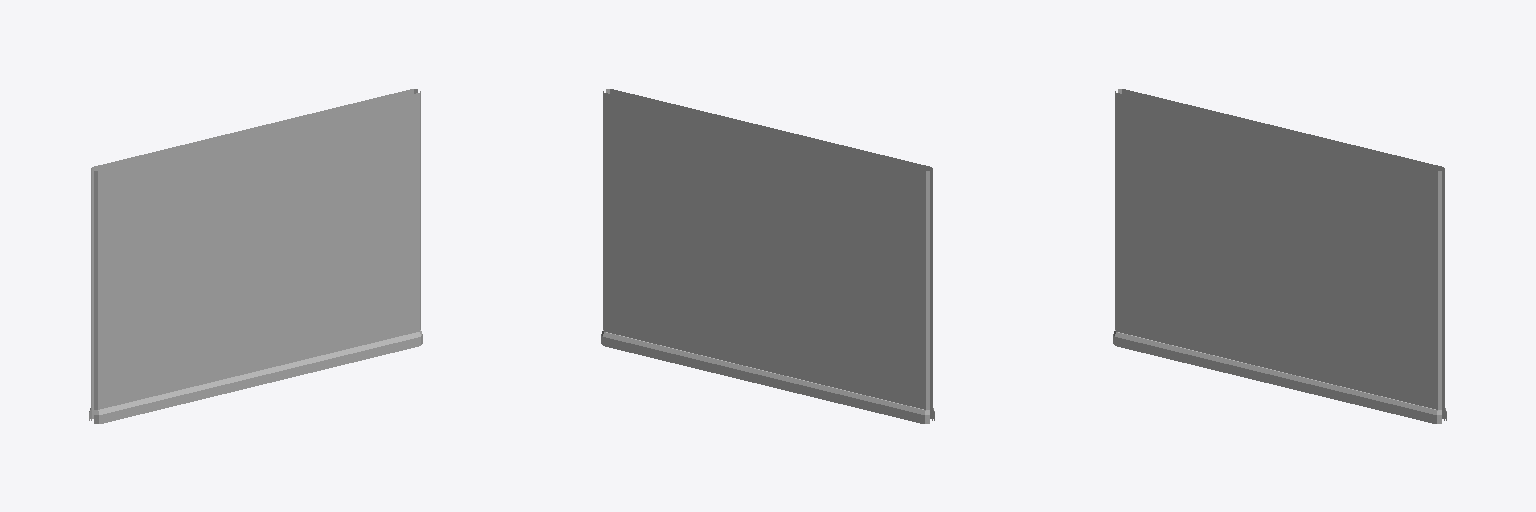
The model's file is wall_1.obj.
The picture shows the model from 3 angles: view 1: azimuth 30°, elevation 25°; view 2: azimuth 150°, elevation 25°; view 3: azimuth 330°, elevation 25°; orthographic projection.
Parts seen in each view (by area): view 1: wall_1; view 2: wall_1; view 3: wall_1.
Boxes of the visible parts, box(x1,y1,x2,y2) form: wall_1: box(89, 89, 422, 423); wall_1: box(601, 89, 934, 423); wall_1: box(1113, 89, 1446, 423).
Size of the model in its own units: 4.09 by 3 by 0.18.